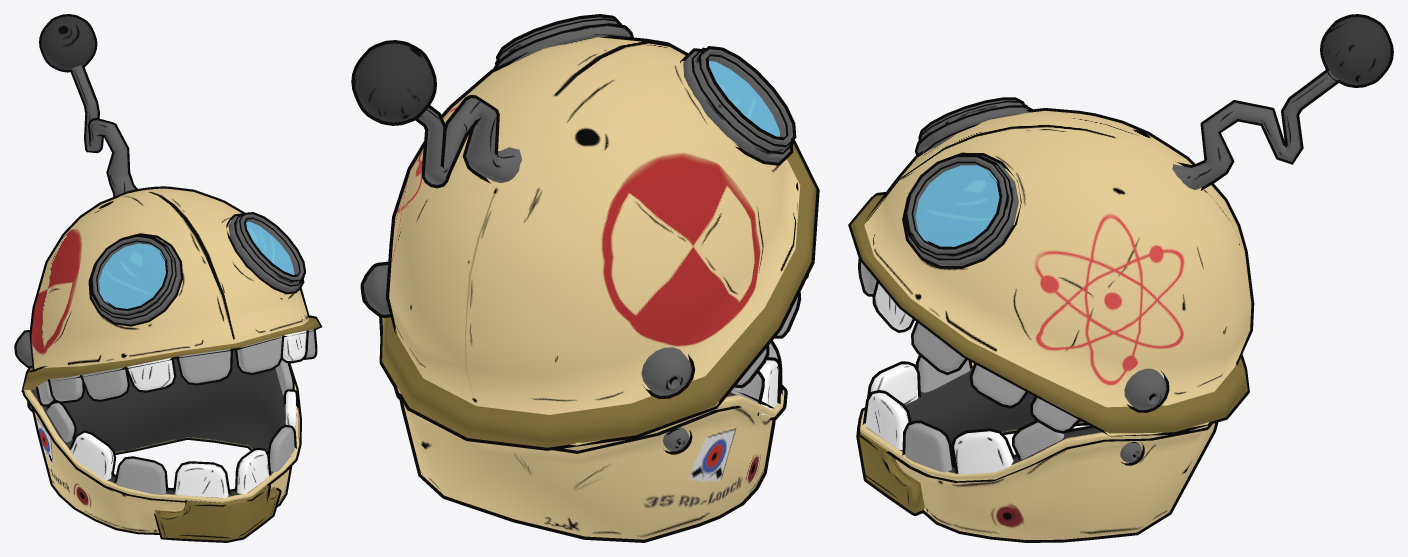
Rendered from casco.glb.
The picture shows the model from 3 angles, left to right: view 1: azimuth 30°, elevation 25°; view 2: azimuth 150°, elevation 25°; view 3: azimuth 270°, elevation 25°; orthographic projection. The views are drawn at different scales.
Visible parts, largest first — view 1: MSH_bASE_mODEL, MSH_bASE_mODEL_outline; view 2: MSH_bASE_mODEL, MSH_bASE_mODEL_outline; view 3: MSH_bASE_mODEL, MSH_bASE_mODEL_outline.
Part boxes in pixels (left/top/right/bottom): MSH_bASE_mODEL: left=16, top=16, right=320, bottom=540; MSH_bASE_mODEL_outline: left=14, top=14, right=322, bottom=542; MSH_bASE_mODEL: left=354, top=17, right=816, bottom=539; MSH_bASE_mODEL_outline: left=351, top=14, right=819, bottom=542; MSH_bASE_mODEL: left=851, top=17, right=1390, bottom=539; MSH_bASE_mODEL_outline: left=848, top=14, right=1393, bottom=542.
Bounding box in the file's own units: 0.3759 × 0.5245 × 0.5405.
2 materials, 1 textured.
